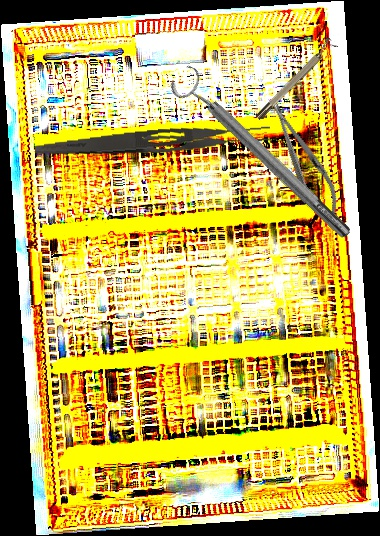Dressing Forceps: (34, 119, 272, 167)
Fixation Ring: (166, 61, 359, 249), (250, 36, 339, 122)
Needle Holder: (260, 94, 349, 227)
